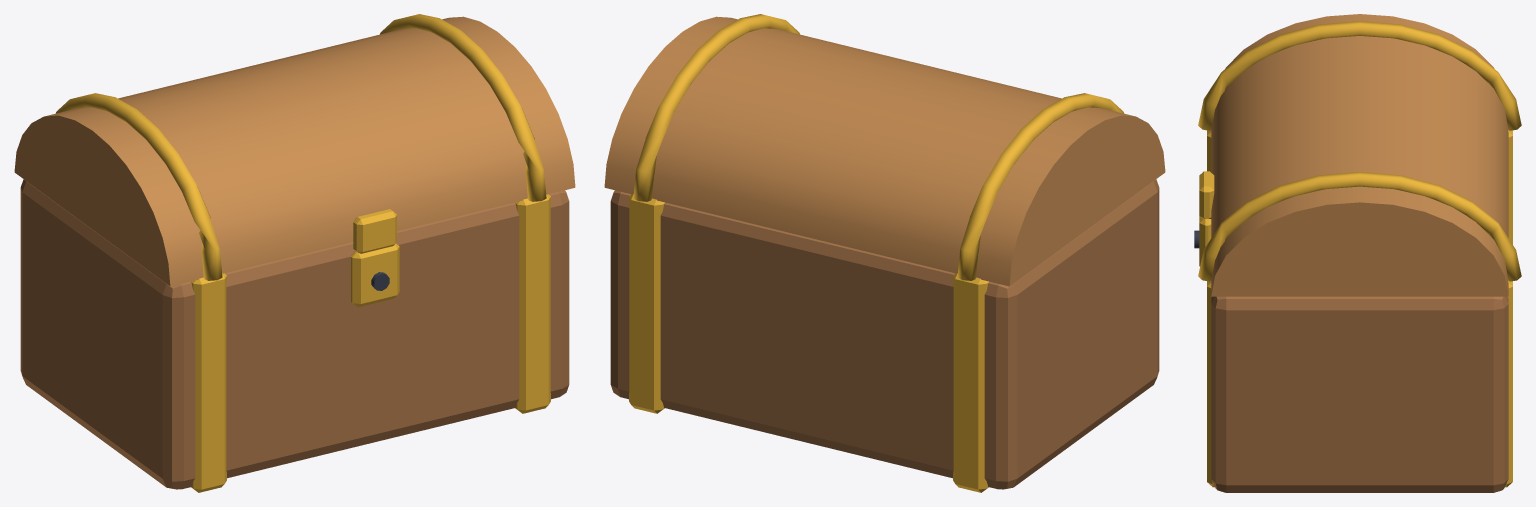
File: bau.glb
3 renders of one model, left to right at view 1: azimuth 30°, elevation 25°; view 2: azimuth 150°, elevation 25°; view 3: azimuth 270°, elevation 25°, orthographic. The views are drawn at different scales.
Parts seen in each view (by area): view 1: bau, tampa; view 2: bau, tampa; view 3: tampa, bau.
Boxes of the visible parts, x1,y1,x2,y2 form: bau: (20,179,569,492); tampa: (14,14,575,286); bau: (610,179,1159,492); tampa: (604,14,1165,286); tampa: (1198,14,1521,296); bau: (1194,130,1512,492).
Size of the model in its own units: 0.6 by 0.4576 by 0.4408.
